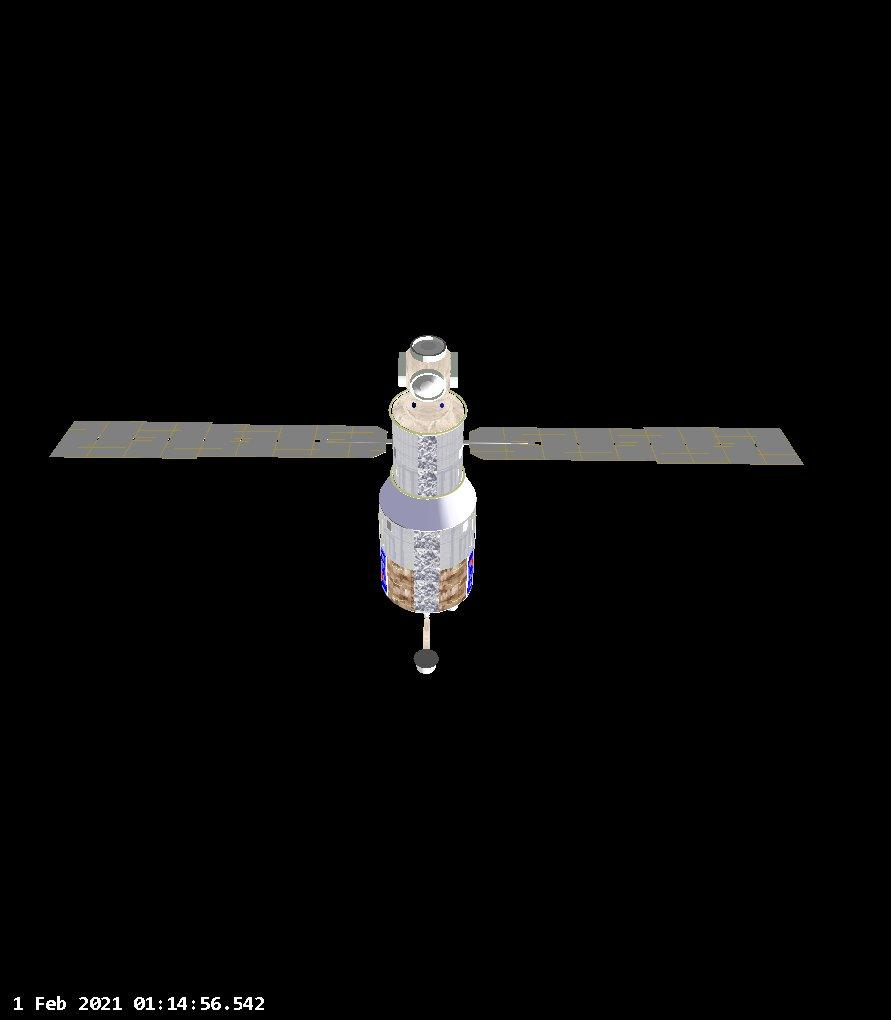antenna: (411, 648, 441, 668), (415, 659, 438, 676)
body: (377, 334, 477, 616)
solar: (463, 422, 808, 469), (46, 418, 392, 462)
